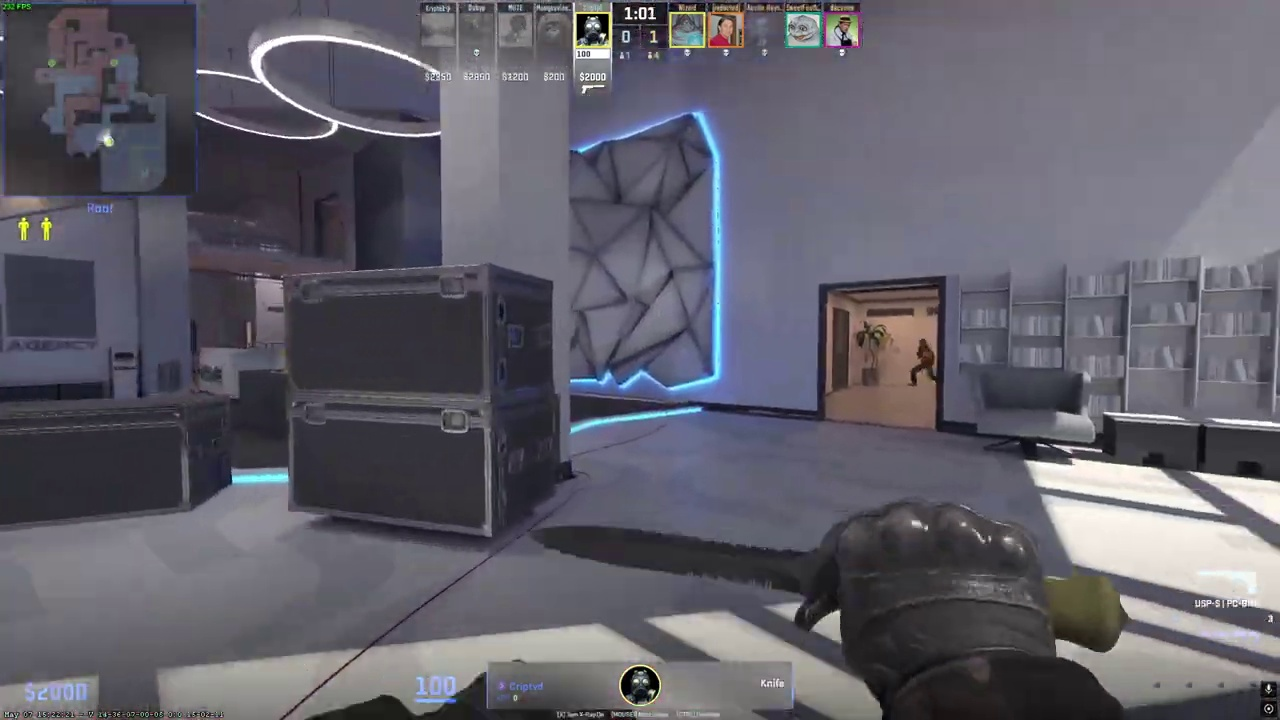Terrorist: (910, 338, 937, 386)
